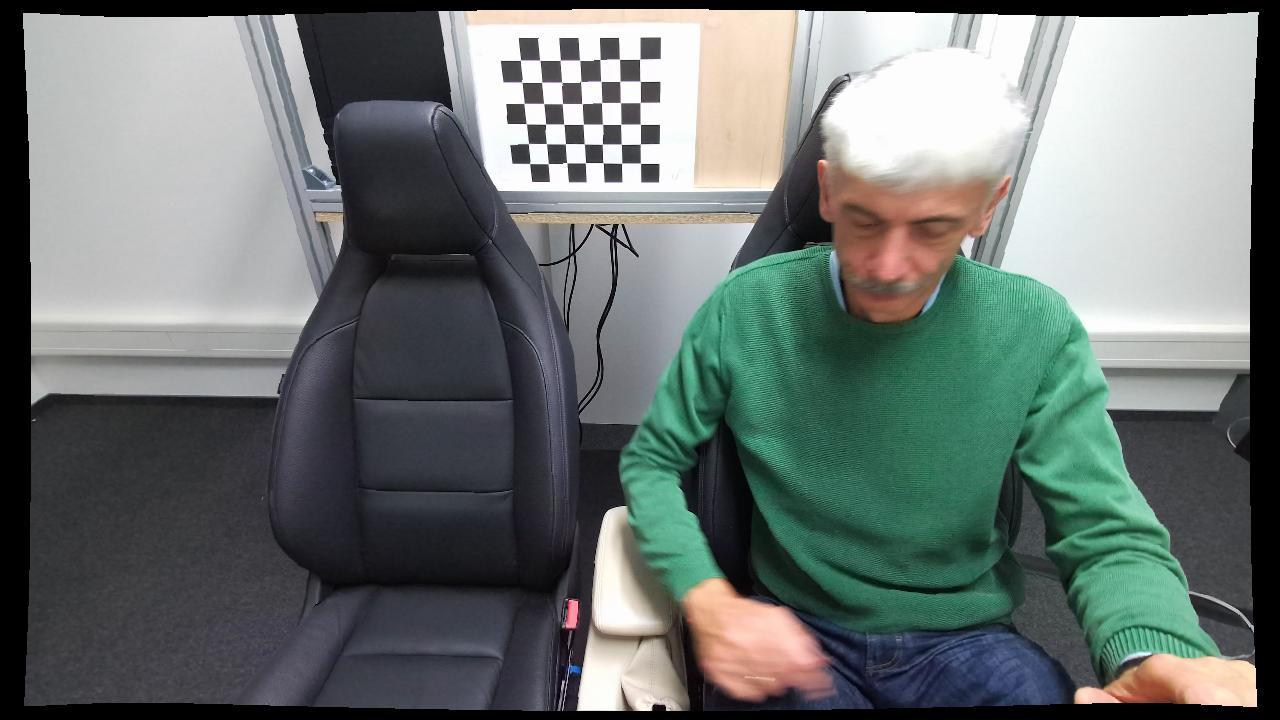Distracted: (605, 55, 1171, 699)
